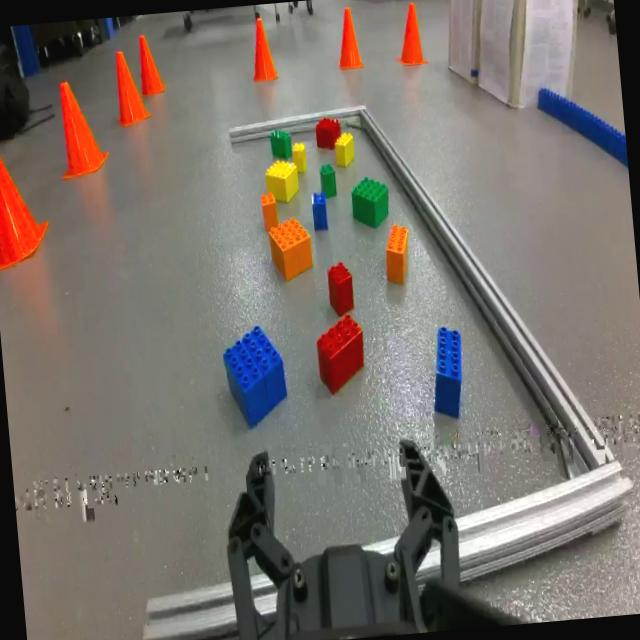block: (262, 156, 300, 202), (333, 130, 359, 170), (290, 142, 306, 172)
blue: (223, 323, 290, 424), (426, 322, 472, 422), (309, 190, 328, 232)
cone: (0, 129, 52, 268), (51, 74, 110, 180), (110, 45, 150, 129), (244, 12, 284, 88), (330, 1, 368, 75), (392, 0, 431, 72), (134, 26, 167, 96)
green: (350, 170, 390, 230), (317, 160, 339, 199), (268, 124, 292, 158)
metal barrier: (145, 102, 631, 640)
orange: (266, 218, 316, 284), (378, 220, 412, 284), (258, 193, 282, 231)
red goal: (312, 312, 367, 394), (323, 259, 359, 324), (313, 114, 341, 148)
river: (525, 72, 628, 174)
storage cube: (435, 0, 589, 118)
